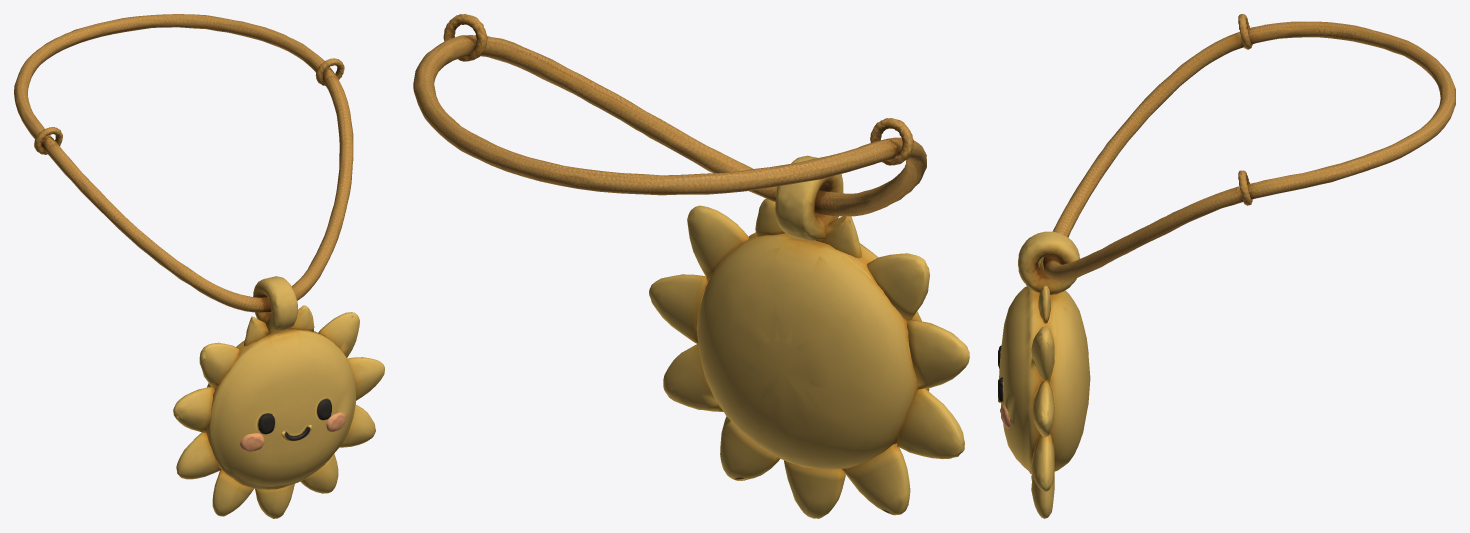
The model's file is mem_ac_sunpendant.fbx.
3 views of the same model, side by side, from view 1: azimuth 30°, elevation 25°; view 2: azimuth 150°, elevation 25°; view 3: azimuth 270°, elevation 25° (orthographic). The views are drawn at different scales.
Visible parts, largest first — view 1: tripo_node_e525eba0; view 2: tripo_node_e525eba0; view 3: tripo_node_e525eba0.
Part boxes in pixels (x1=…): tripo_node_e525eba0: x1=14, y1=14, x2=384, y2=518; tripo_node_e525eba0: x1=413, y1=14, x2=969, y2=518; tripo_node_e525eba0: x1=998, y1=14, x2=1455, y2=518.
Bounding box in the file's own units: 0.8848 × 0.998 × 0.998.
